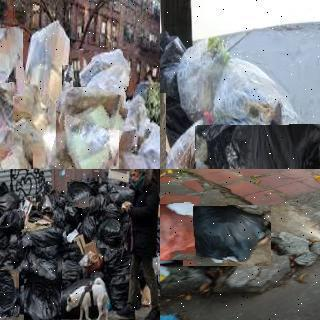Garbage: (196, 124, 320, 169), (51, 95, 123, 169), (183, 206, 271, 266), (58, 61, 128, 126), (72, 50, 129, 87), (160, 203, 194, 261), (17, 223, 68, 258), (0, 27, 24, 97), (24, 278, 61, 320), (23, 247, 63, 284), (94, 214, 127, 250), (0, 269, 19, 317), (0, 83, 13, 145), (66, 181, 91, 208)
